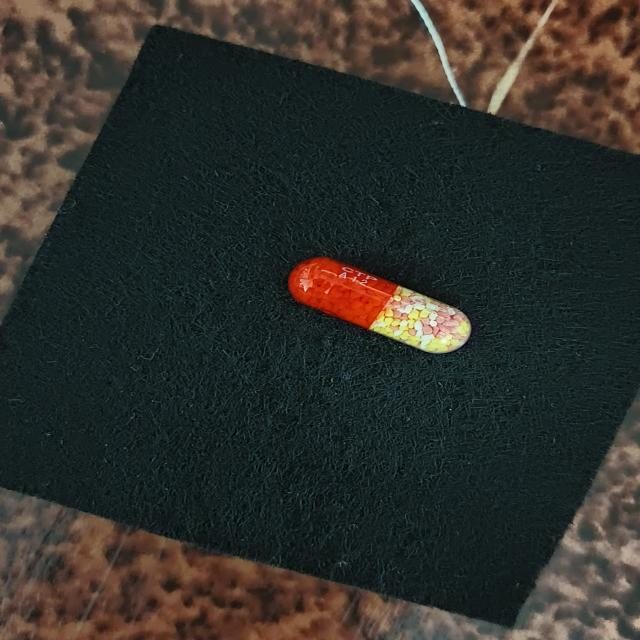Intact Capsule: (288, 257, 471, 353)
